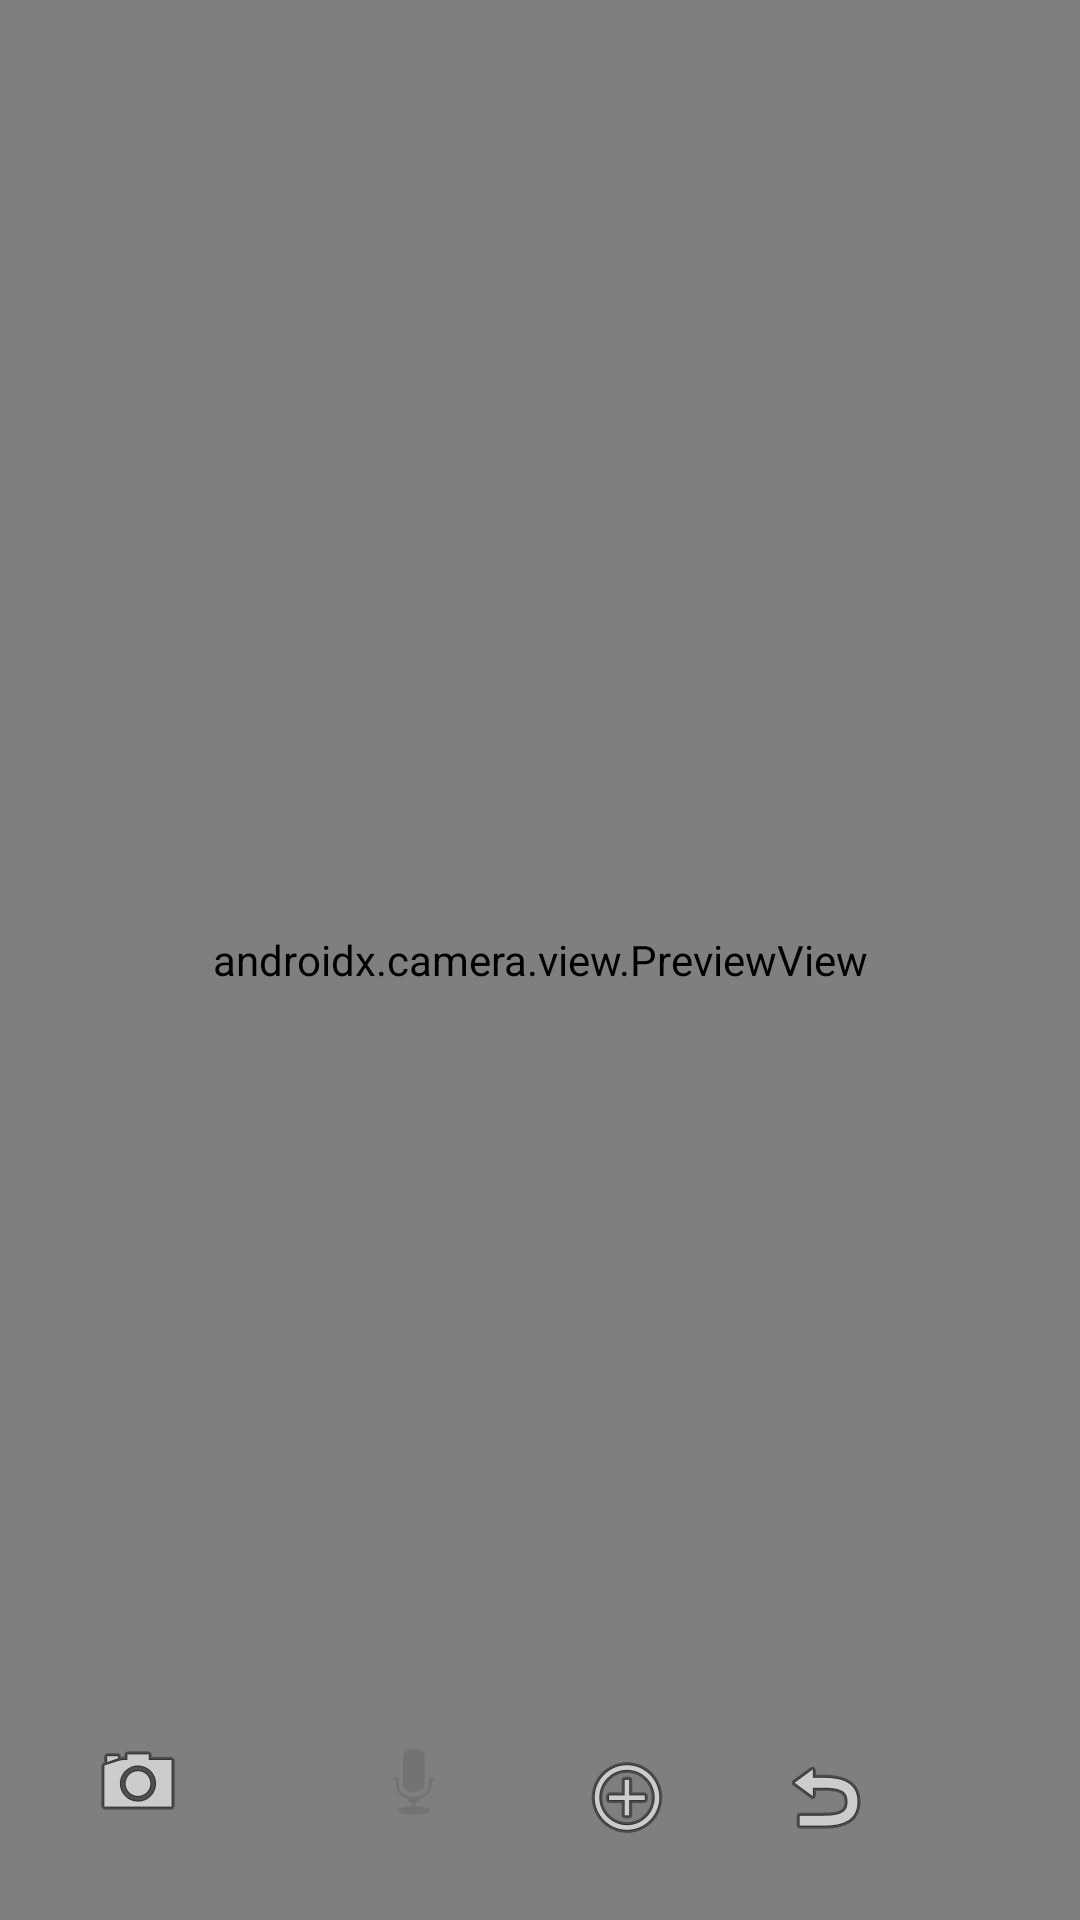

Where icons sit on this 1080px x 1920px app screen, as (x1, y1, x2, y2):
add: (592, 1762, 662, 1833)
Capture Image: (101, 1751, 175, 1810)
revert: (792, 1767, 861, 1829)
